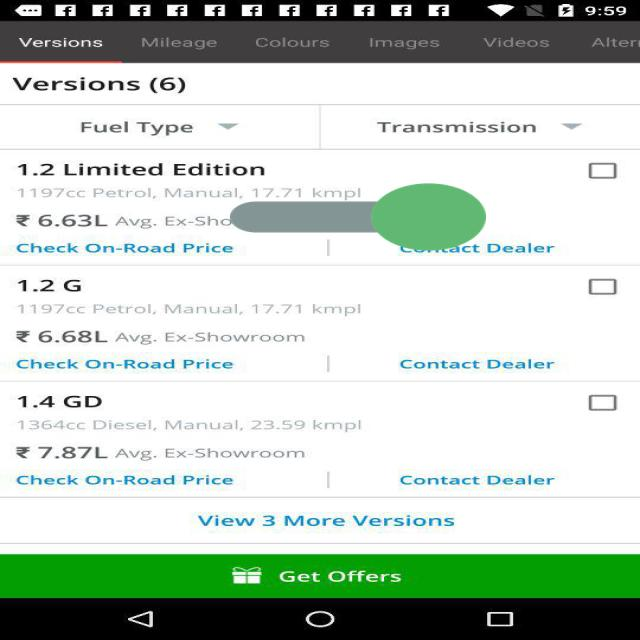social proof: (230, 142, 486, 292)
